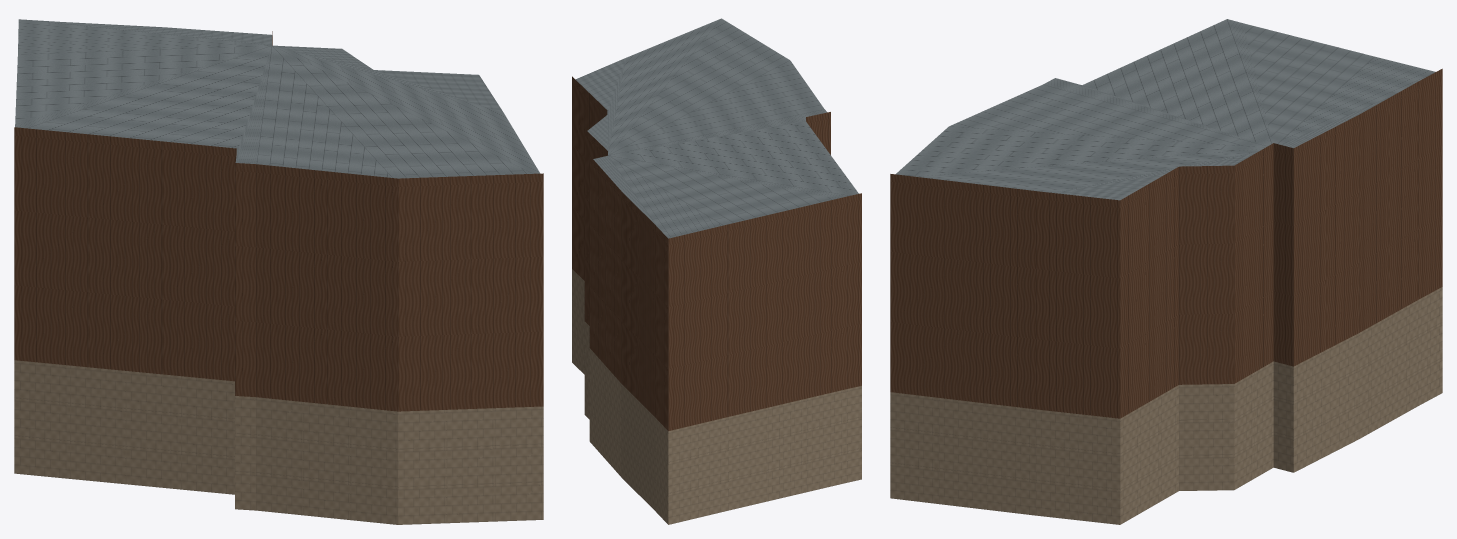
The model's file is bld_c32_-24_535.gltf.
3 views of the same model, side by side, from view 1: azimuth 30°, elevation 25°; view 2: azimuth 150°, elevation 25°; view 3: azimuth 270°, elevation 25° (orthographic). The views are drawn at different scales.
Parts seen in each view (by area): view 1: bld_c32_-24_535; view 2: bld_c32_-24_535; view 3: bld_c32_-24_535.
Boxes of the visible parts, bbox=[...] form: bld_c32_-24_535: bbox=[14, 19, 543, 524]; bld_c32_-24_535: bbox=[572, 18, 861, 524]; bld_c32_-24_535: bbox=[890, 19, 1442, 524].
Bounding box in the file's own units: 19.19 × 15.58 × 24.02.
Materials: 4 (4 with a texture image).
